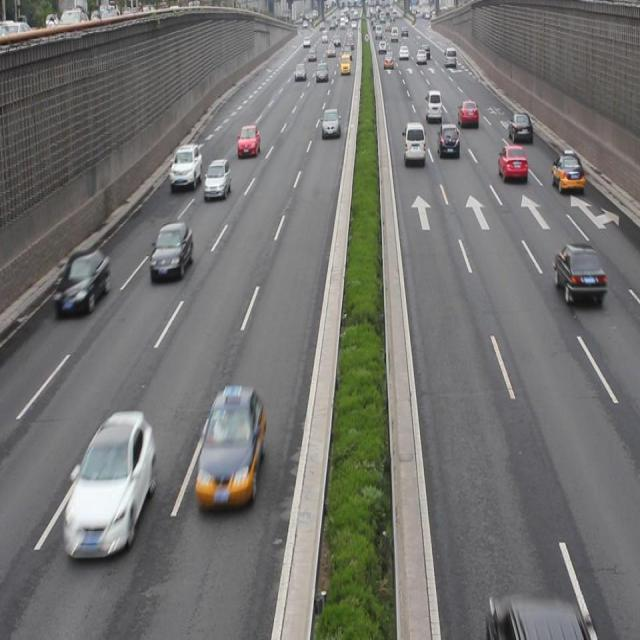car: (62, 410, 154, 561), (193, 385, 265, 506), (54, 245, 110, 319), (553, 242, 606, 306), (149, 221, 192, 282), (549, 150, 584, 194), (170, 142, 201, 191), (497, 143, 527, 184), (203, 158, 230, 199), (506, 110, 533, 145), (436, 121, 459, 160), (238, 124, 260, 157), (458, 98, 478, 130), (322, 105, 340, 139)
truck: (403, 120, 425, 166)
